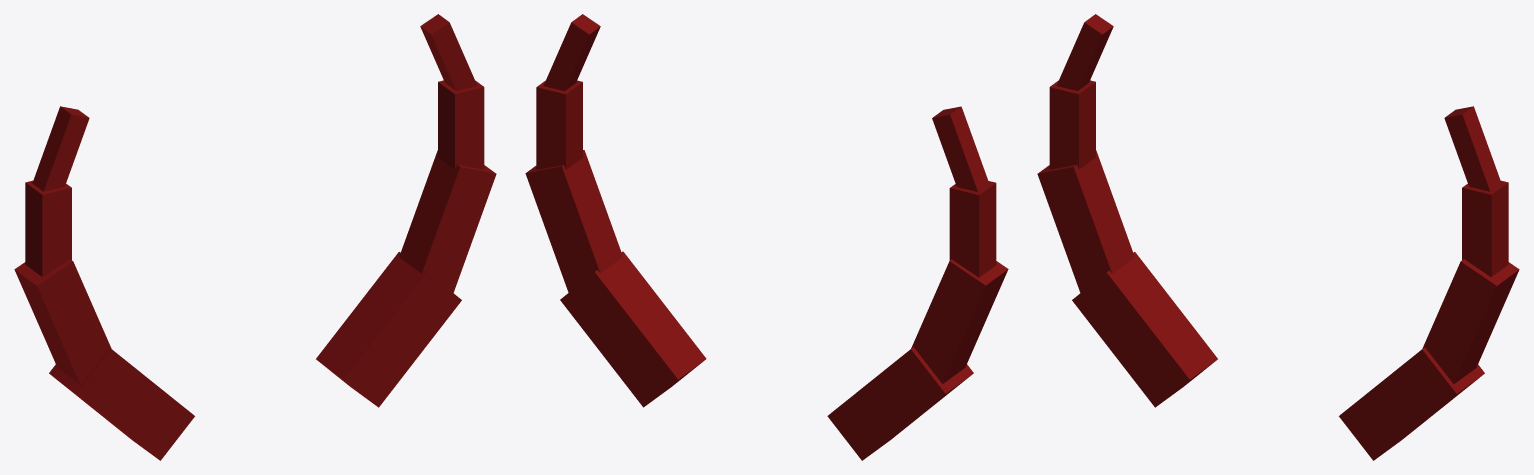
Rendered from halloween_horns_2.glb.
3 renders of one model, left to right at view 1: azimuth 30°, elevation 25°; view 2: azimuth 150°, elevation 25°; view 3: azimuth 330°, elevation 25°, orthographic.
Parts seen in each view (by area): view 1: cube.004, cube.005, cube, cube.001, cube.002, cube.006, cube.003, cube.007; view 2: cube.004, cube.005, cube, cube.001, cube.002, cube.006, cube.003, cube.007; view 3: cube, cube.001, cube.004, cube.005, cube.006, cube.002, cube.007, cube.003.
Boxes of the visible parts, x1,y1,x2,y2 form: cube.004: (316,252,461,407); cube.005: (399,150,496,292); cube: (49,347,194,460); cube.001: (14,259,111,383); cube.002: (25,180,71,276); cube.006: (438,80,484,169); cube.003: (32,106,89,191); cube.007: (420,14,477,90); cube.004: (560,251,706,407); cube.005: (525,150,622,292); cube: (827,347,973,460); cube.001: (911,259,1008,384); cube.002: (949,181,996,277); cube.006: (536,80,582,169); cube.003: (932,106,989,191); cube.007: (543,14,600,91); cube: (1072,252,1217,407); cube.001: (1037,150,1134,292); cube.004: (1339,347,1484,460); cube.005: (1422,259,1519,383); cube.006: (1462,180,1508,276); cube.002: (1049,80,1095,169); cube.007: (1444,106,1501,191); cube.003: (1056,14,1113,90).
Size of the model in its own units: 1.46 by 1.09 by 0.1563.
Materials: 1 (1 with a texture image).
